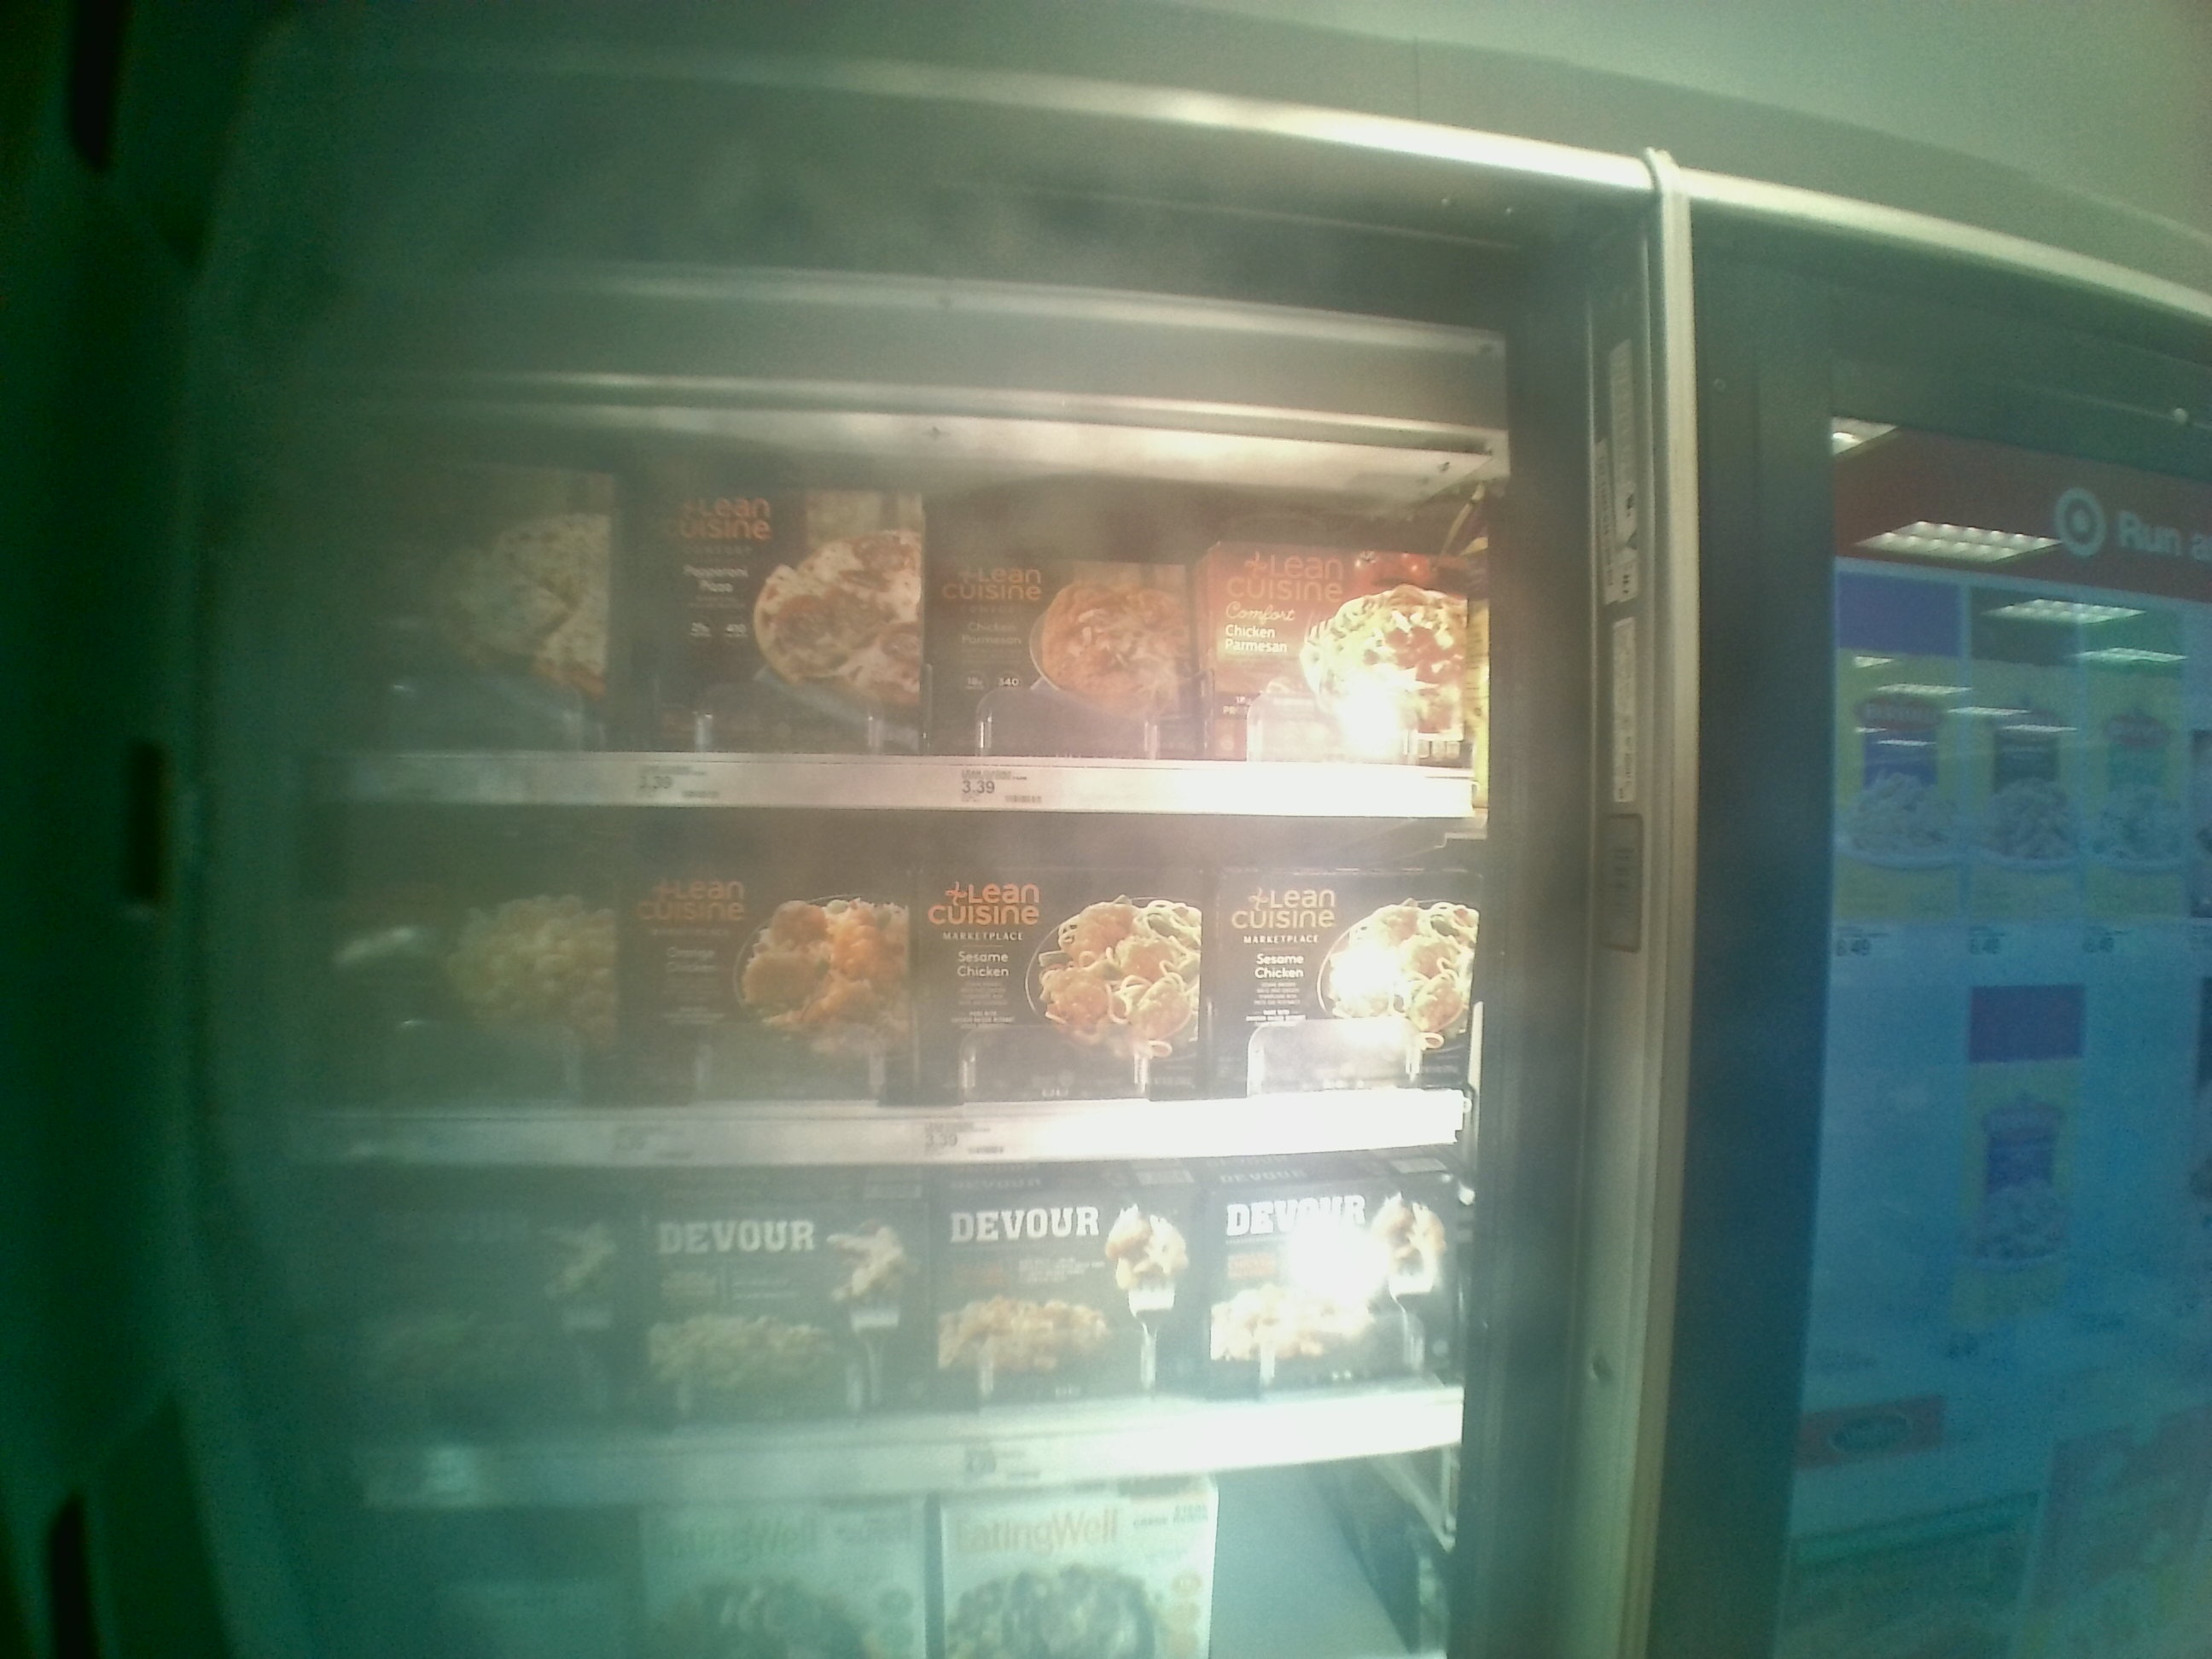shelf: (336, 361, 1477, 817), (315, 1164, 1484, 1521), (319, 812, 1474, 1161)
